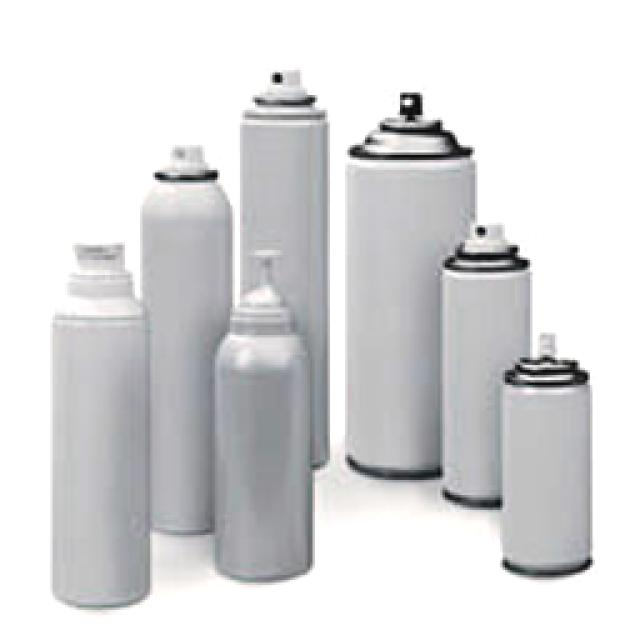B3: (346, 91, 474, 476), (55, 244, 152, 605), (142, 148, 231, 530), (242, 70, 329, 460), (213, 257, 312, 582), (442, 227, 532, 505), (489, 348, 577, 580)
